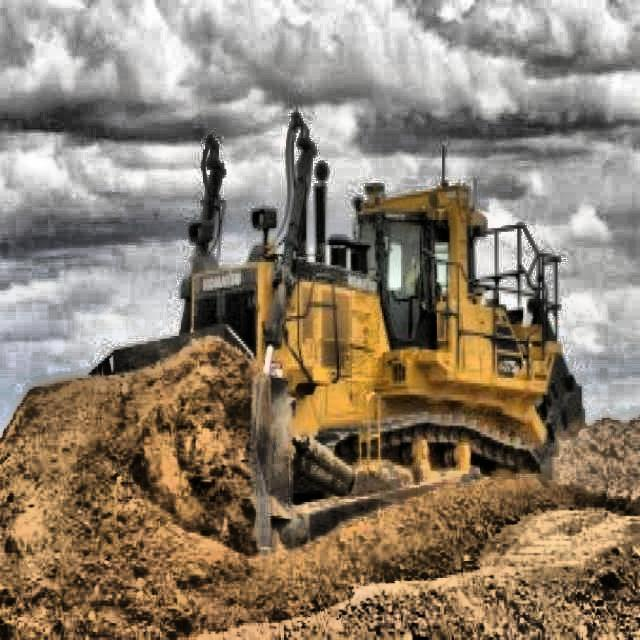bull_dozer/loader/grader: (82, 108, 588, 557)
person: (406, 242, 426, 301)
